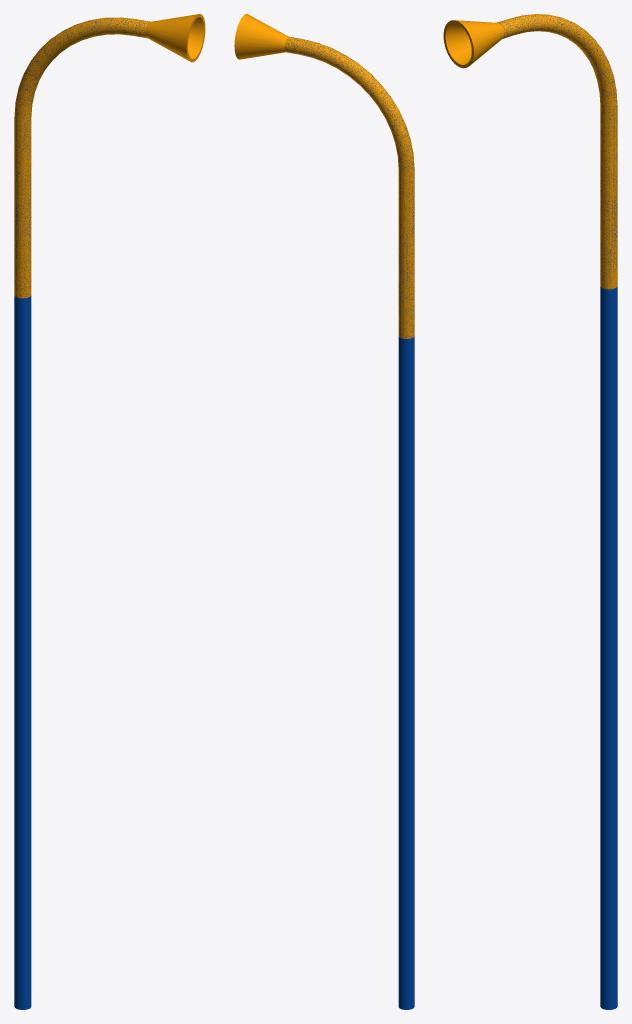
The model's file is cono3.dae.
3 views of the same model, side by side, from view 1: azimuth 30°, elevation 25°; view 2: azimuth 210°, elevation 25°; view 3: azimuth 270°, elevation 25° (orthographic). The views are drawn at different scales.
Visible parts, largest first — view 1: group_2 (×2), group_1; view 2: group_2 (×2), group_1; view 3: group_2 (×2), group_1.
Part boxes in pixels (left/top/right/bottom): group_2 (×2): left=14, top=17, right=149, bottom=1009; group_1: left=145, top=14, right=205, bottom=62; group_2 (×2): left=284, top=36, right=414, bottom=1009; group_1: left=234, top=14, right=288, bottom=59; group_2 (×2): left=497, top=14, right=617, bottom=1009; group_1: left=443, top=20, right=504, bottom=68.
Size of the model in its own units: 16.45 by 19.87 by 130.
